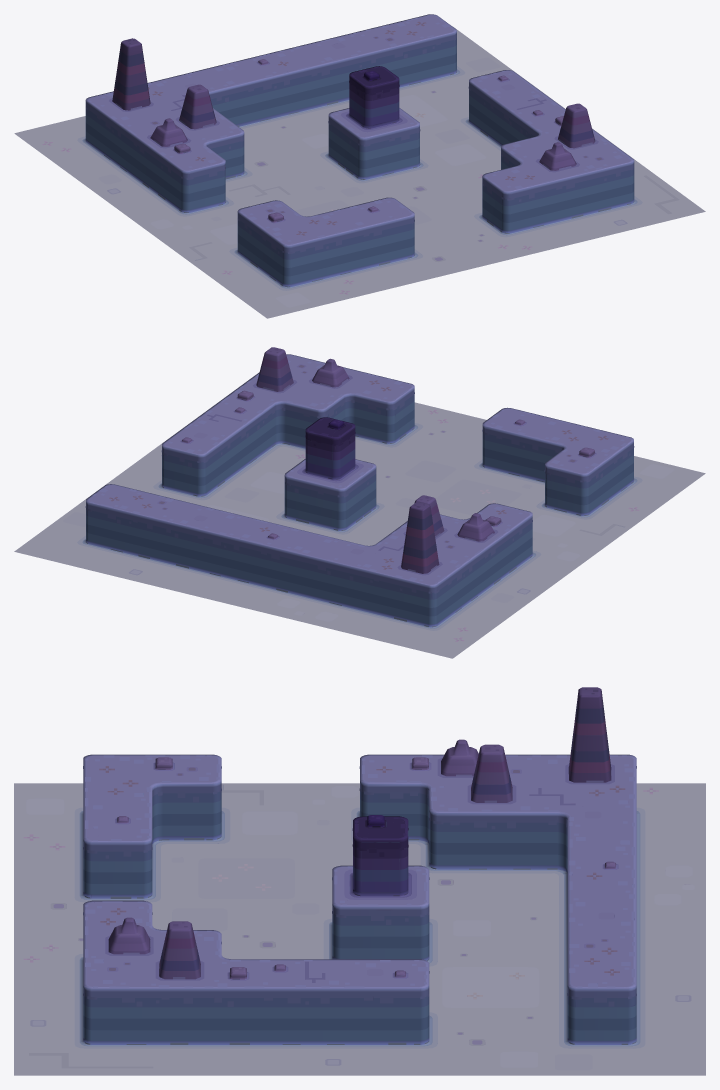
File: C_cave1_02.fbx
The picture shows the model from 3 angles, top to bottom: view 1: azimuth 30°, elevation 25°; view 2: azimuth 150°, elevation 25°; view 3: azimuth 270°, elevation 25°; orthographic projection. The views are drawn at different scales.
Parts seen in each view (by area): view 1: C_cave1_02.001; view 2: C_cave1_02.001; view 3: C_cave1_02.001.
Part boxes in pixels (<box>): C_cave1_02.001: <box>14,14,705,318</box>; C_cave1_02.001: <box>14,347,705,658</box>; C_cave1_02.001: <box>14,687,705,1075</box>.
Size of the model in its own units: 50 by 11.34 by 50.
1 material, 1 textured.
